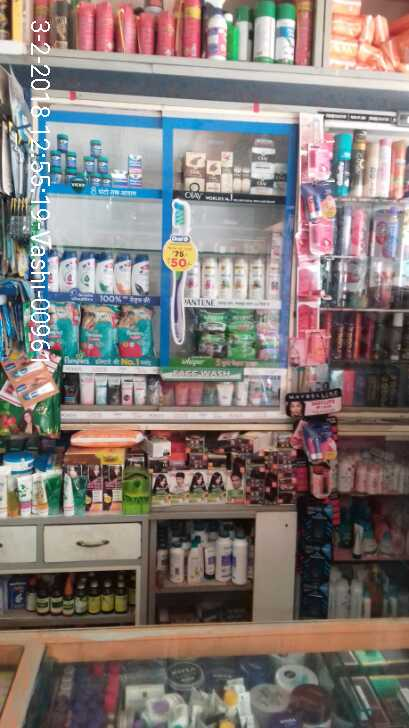beauty: (331, 132, 350, 197), (113, 254, 134, 297), (94, 253, 114, 295), (200, 257, 218, 302), (132, 253, 150, 296), (60, 251, 78, 292), (79, 251, 95, 295), (232, 258, 248, 301), (248, 260, 264, 303), (218, 256, 231, 303), (185, 151, 206, 178), (252, 171, 272, 198), (220, 150, 232, 194), (207, 160, 220, 194), (185, 177, 205, 195), (240, 165, 251, 195), (233, 166, 241, 194)
pharmacy: (79, 301, 119, 357), (118, 305, 155, 358), (195, 332, 227, 360), (226, 332, 258, 359), (195, 310, 226, 334), (226, 311, 256, 333), (126, 153, 144, 186), (88, 173, 103, 192), (89, 138, 103, 157), (55, 132, 69, 151), (64, 167, 76, 187), (96, 155, 109, 173), (111, 176, 128, 189), (64, 151, 77, 168), (50, 149, 61, 169), (83, 155, 95, 172), (101, 175, 111, 191)
